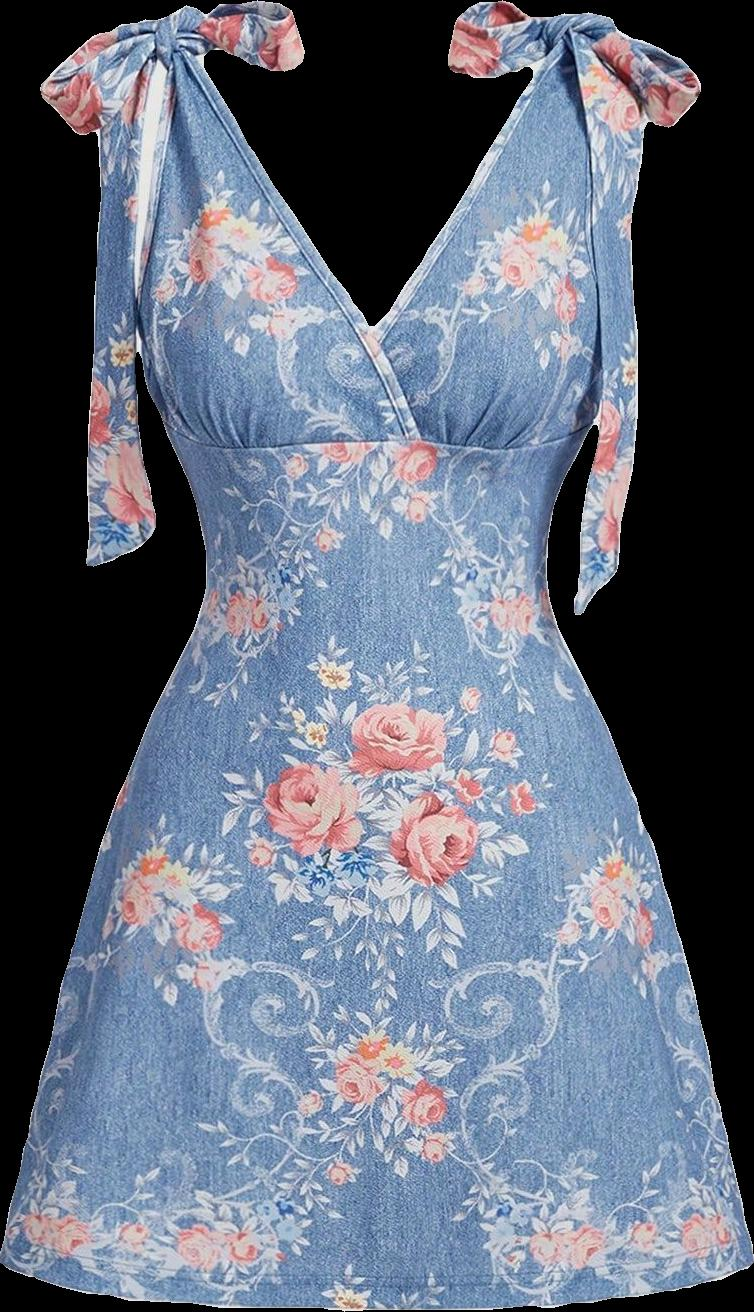Bodice: (132, 6, 609, 609)
Hemline: (0, 1250, 753, 1310)
Neckline: (176, 5, 572, 339), (161, 416, 598, 461)
Skirt: (0, 600, 752, 1310)
